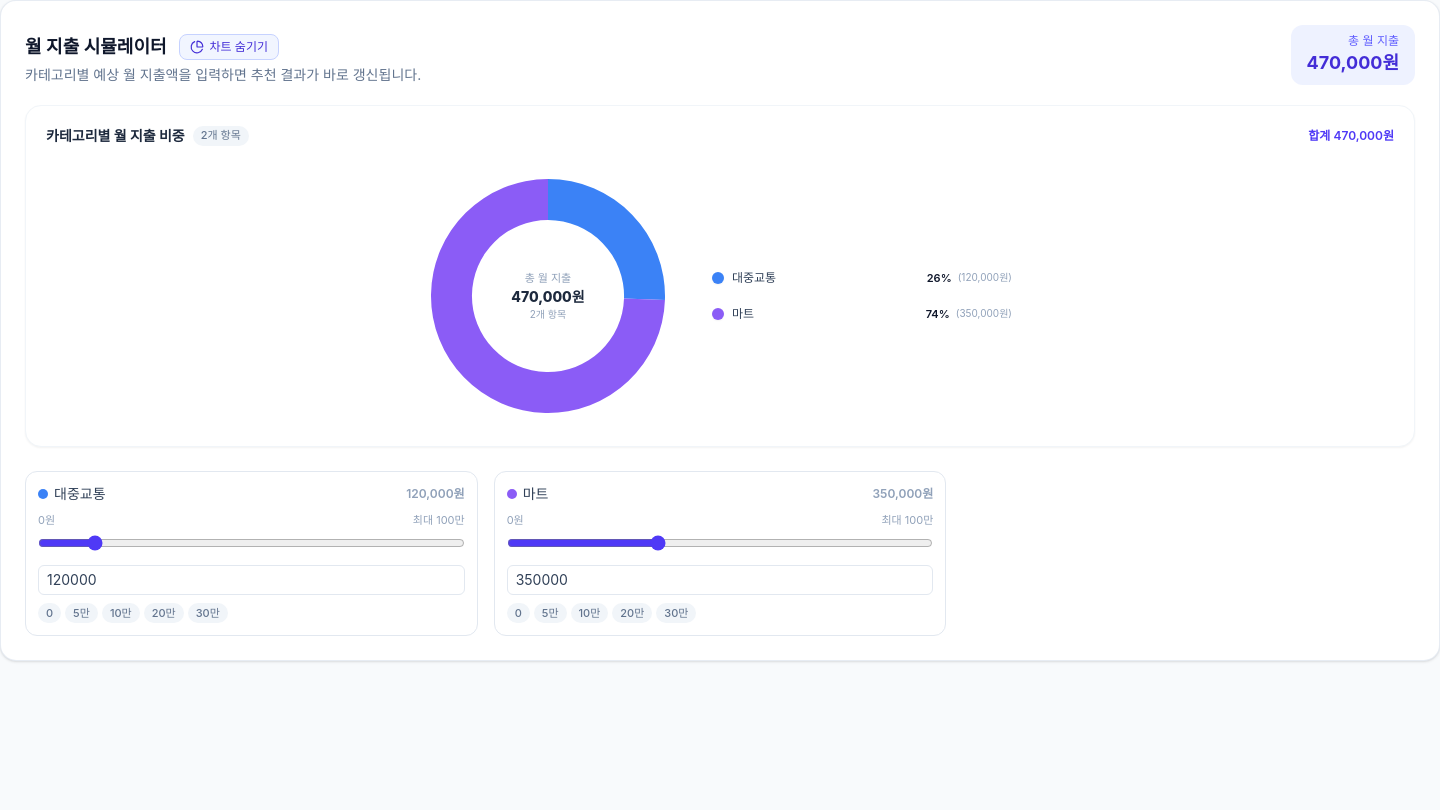
Test case: SpendingSimulator Component Smoke Test › 차트 숨기기/보기 토글 버튼을 클릭하면 도넛 차트 영역이 토글되어야 한다
Expected: the element with test id "donut-chart-container" is shown, [25,105,1415,447]
Note: 토글하여 숨기기
Click the button with test id "toggle-spending-chart-btn" at (229, 47), box [179,34,279,60]
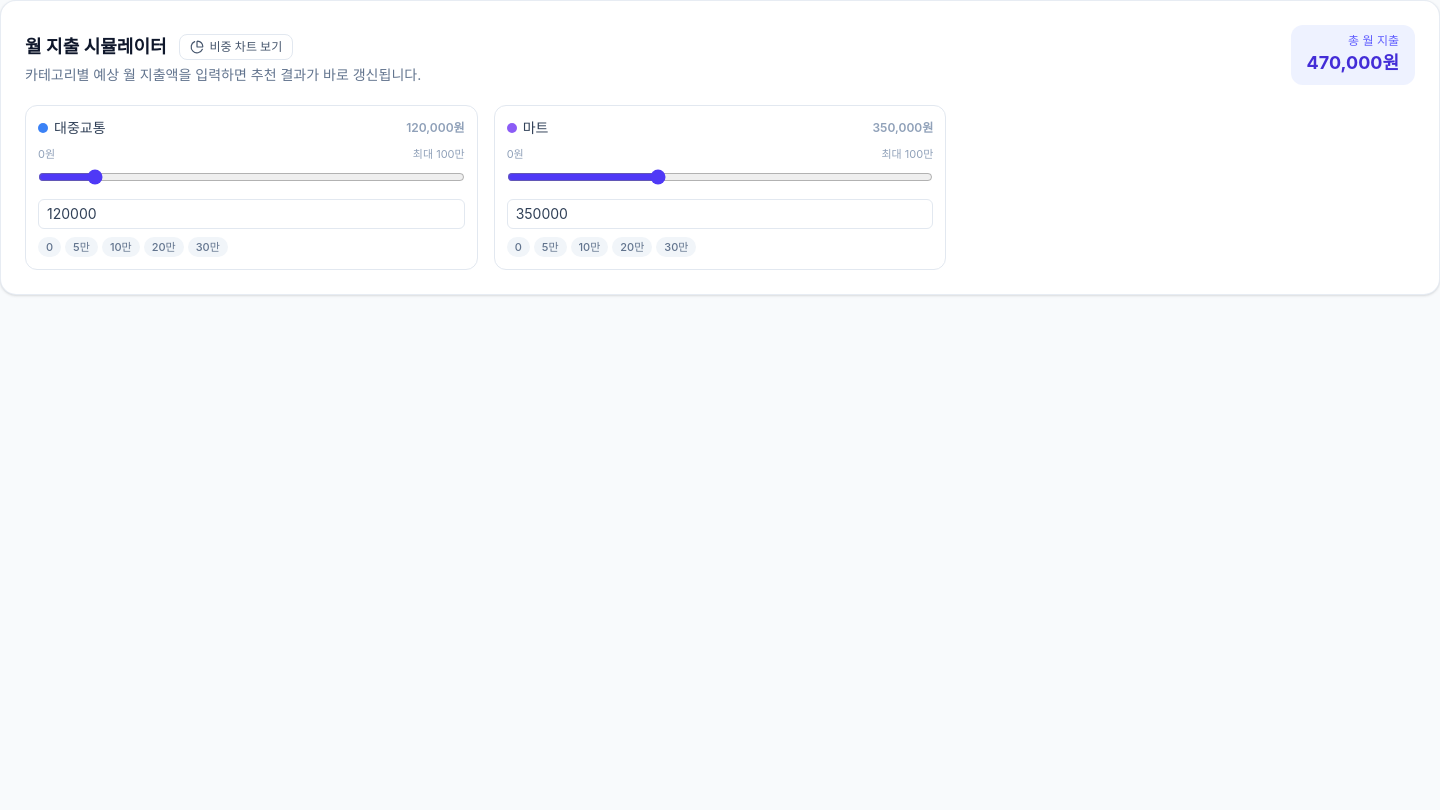
Now the button with test id "toggle-spending-chart-btn" reads "비중 차트 보기"
Now the element with test id "donut-chart-container" is gone
Note: 다시 토글하여 보기
Click the button with test id "toggle-spending-chart-btn" at (236, 47), box [179,34,293,60]
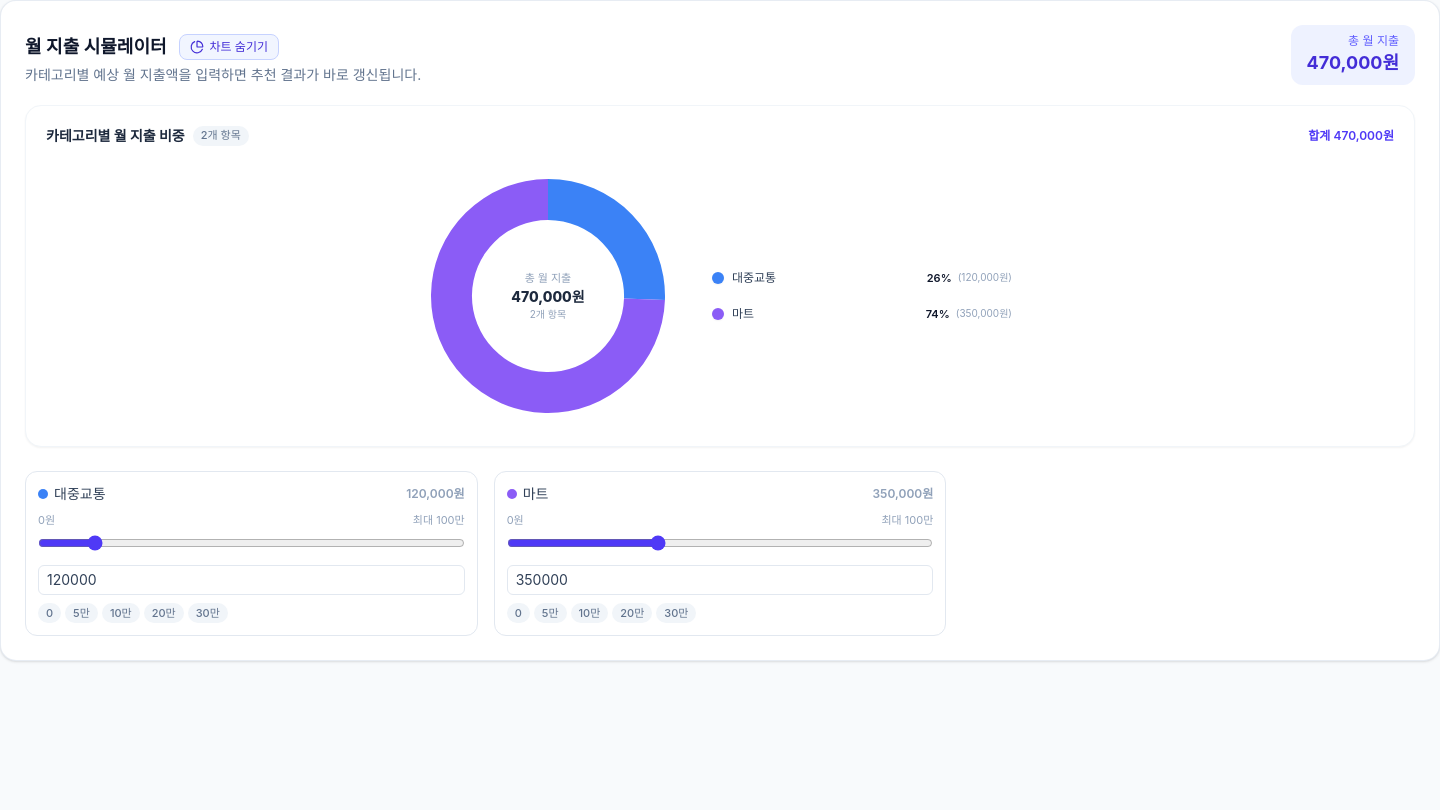
Now the button with test id "toggle-spending-chart-btn" reads "차트 숨기기", box [179,34,279,60]
Now the element with test id "donut-chart-container" is shown, box [25,105,1415,447]
